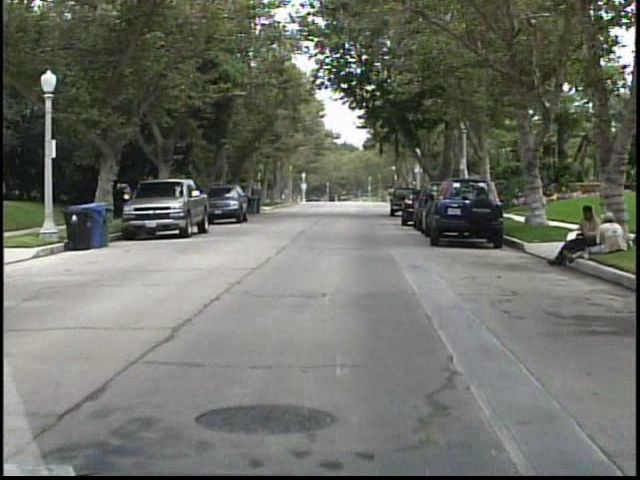person: (547, 204, 597, 269), (589, 211, 622, 254)
